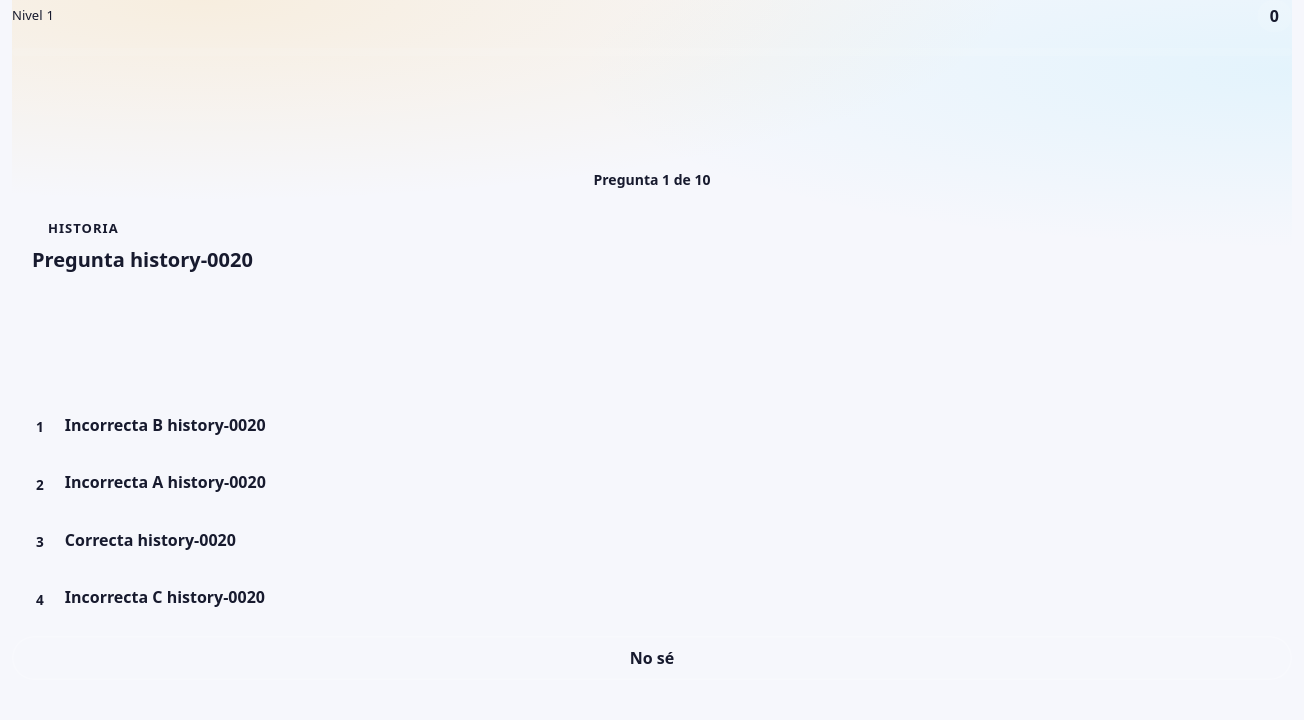
it: a wrong answer marks both options
The width and height of the screenshot is (1304, 720).
Click the button "2 Incorrecta A history-0020" at (64, 482), box x1=12 y1=461 x2=1292 y2=509
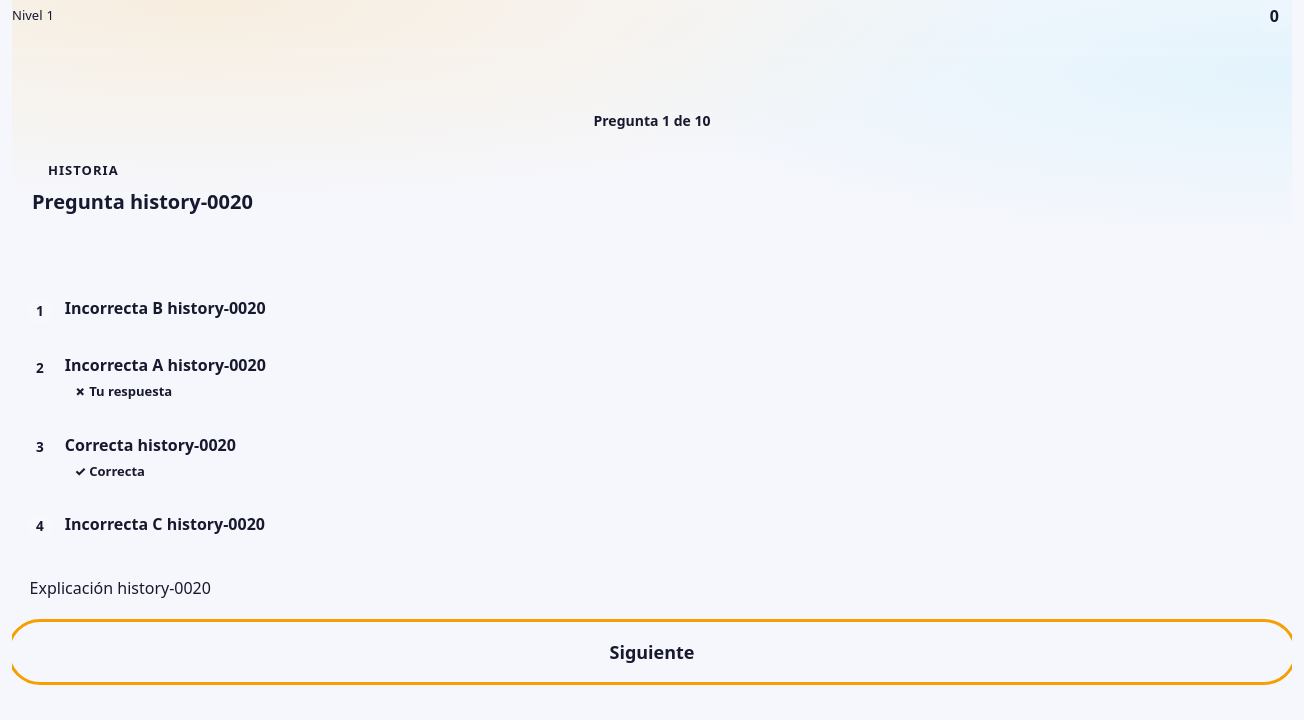
Check: the text "✓ Correcta" is shown, box x1=74 y1=462 x2=145 y2=480
Check: the text "✗ Tu respuesta" is shown, box x1=74 y1=382 x2=172 y2=400
